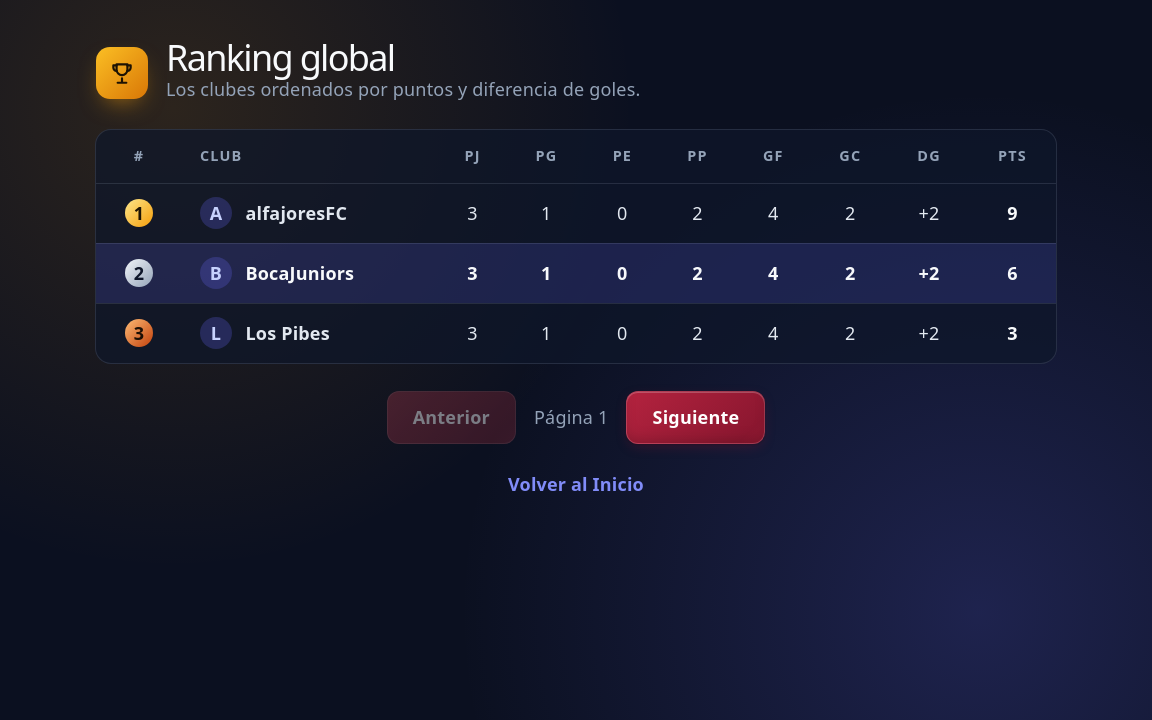
Scenario: RankingPage › Debería pedir la página siguiente al tocar Siguiente
The image size is (1152, 720).
Expected: the text "alfajoresFC" is shown, [246, 200, 347, 226]
Expected: the button "Anterior" is disabled, [386, 391, 516, 444]
What coordinates should you click on to do the following:
click the button "Siguiente"
I would click on:
 (696, 417)
Its box is [626, 391, 765, 444].
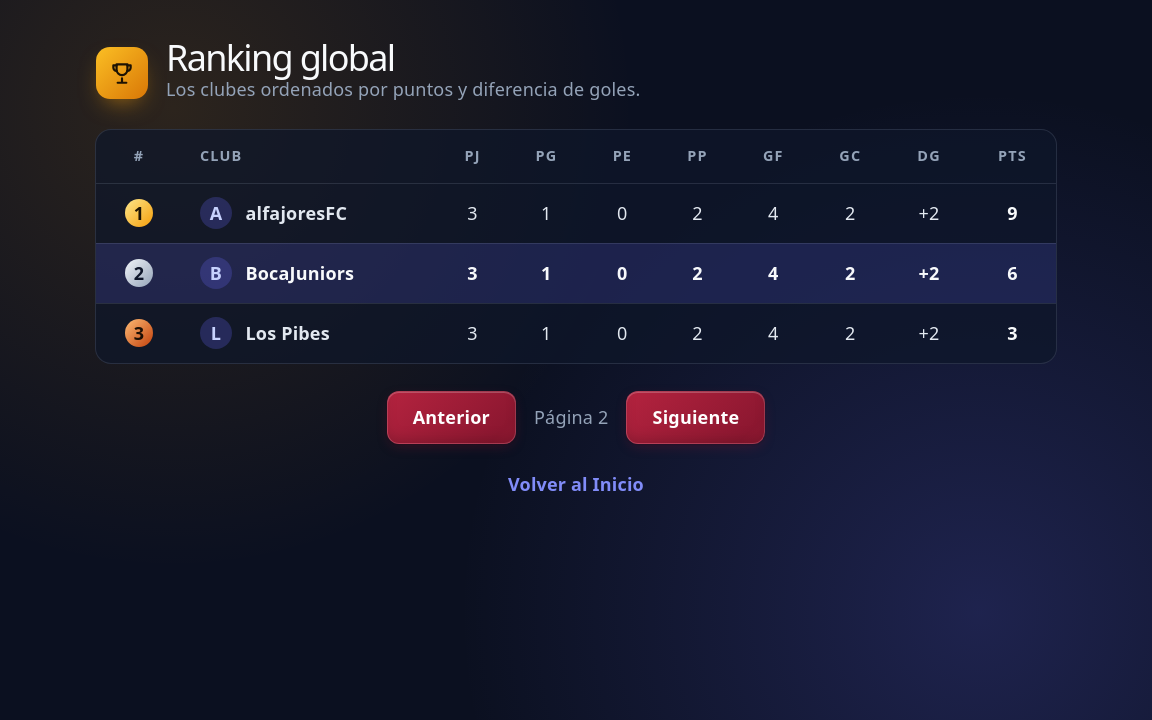
Now the text "Página 2" is shown, box [534, 404, 608, 430]
